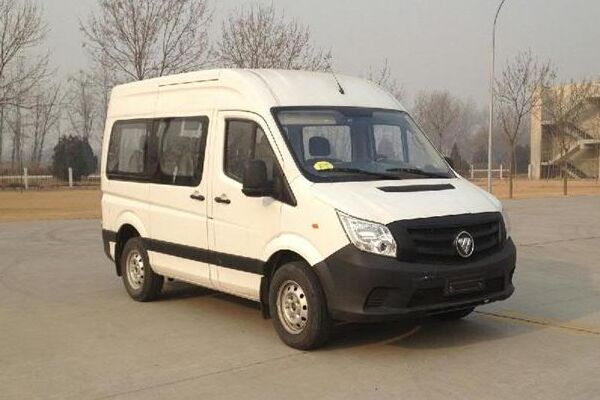midcar: (83, 54, 526, 362)
